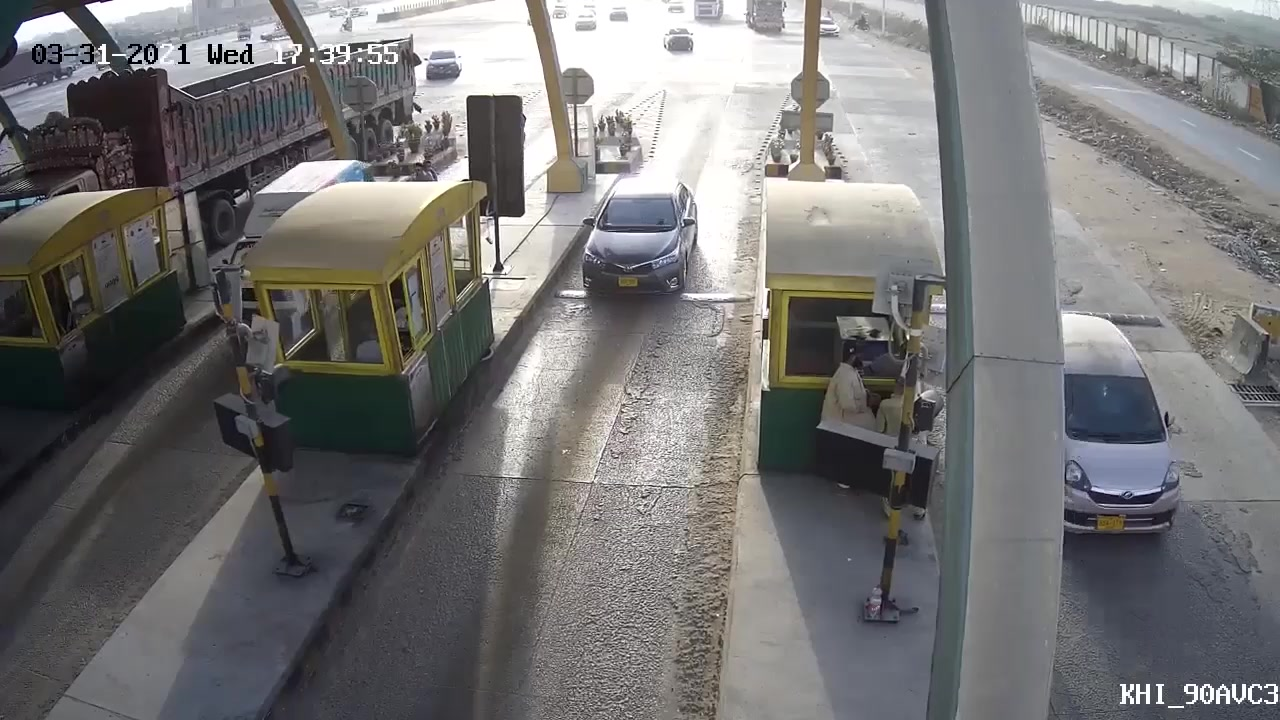F1: (579, 177, 700, 301)
